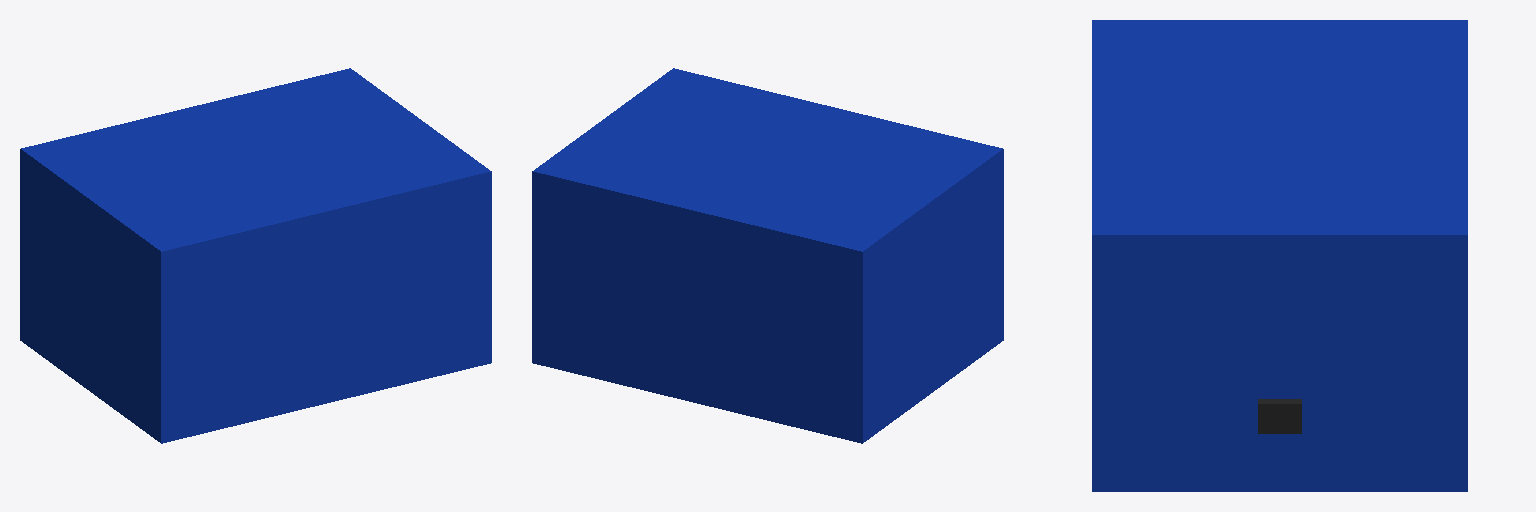
The robot description file, URDF, robot "hexacross8_rov":
<?xml version="1.0"?>
<robot name="hexacross8_rov" xmlns:xacro="http://www.ros.org/wiki/xacro">
  <!--
    HexaCross-8 ROV URDF description
    Coordinate frame: body NED (X-forward, Y-starboard, Z-down)
    All measurements at operating temperature (18 deg C)
    Last updated: 2026-03-22
  -->

  <!-- Material definitions -->
  <material name="blue_anodized">
    <color rgba="0.12 0.29 0.72 1.0"/>
  </material>
  <material name="dark_gray">
    <color rgba="0.2 0.2 0.2 1.0"/>
  </material>
  <material name="acrylic_clear">
    <color rgba="0.9 0.9 0.95 0.4"/>
  </material>

  <!-- Main vehicle body -->
  <link name="base_link">
    <inertial>
      <origin xyz="0.0 0.0 0.0" rpy="0 0 0"/>
      <mass value="12.5"/>
      <inertia ixx="0.21" ixy="0.0" ixz="0.0"
               iyy="0.24" iyz="0.0"
               izz="0.18"/>
    </inertial>
    <visual>
      <origin xyz="0 0 0" rpy="0 0 0"/>
      <geometry>
        <box size="0.457 0.338 0.254"/>
      </geometry>
      <material name="blue_anodized"/>
    </visual>
    <collision>
      <origin xyz="0 0 0" rpy="0 0 0"/>
      <geometry>
        <box size="0.457 0.338 0.254"/>
      </geometry>
    </collision>
  </link>

  <!-- Electronics enclosure -->
  <link name="electronics_tube">
    <inertial>
      <origin xyz="0 0 0" rpy="0 0 0"/>
      <mass value="0.0"/>
      <inertia ixx="0.0" ixy="0.0" ixz="0.0"
               iyy="0.0" iyz="0.0" izz="0.0"/>
    </inertial>
    <visual>
      <origin xyz="0 0 0" rpy="0 1.5708 0"/>
      <geometry>
        <cylinder radius="0.051" length="0.298"/>
      </geometry>
      <material name="acrylic_clear"/>
    </visual>
  </link>
  <joint name="electronics_joint" type="fixed">
    <parent link="base_link"/>
    <child link="electronics_tube"/>
    <origin xyz="0.0 0.0 -0.03" rpy="0 0 0"/>
  </joint>

  <!-- Camera tilt mount -->
  <link name="camera_tilt_link">
    <inertial>
      <origin xyz="0 0 0" rpy="0 0 0"/>
      <mass value="0.0"/>
      <inertia ixx="0.0" ixy="0.0" ixz="0.0"
               iyy="0.0" iyz="0.0" izz="0.0"/>
    </inertial>
    <visual>
      <origin xyz="0 0 0" rpy="0 0 0"/>
      <geometry>
        <box size="0.04 0.04 0.03"/>
      </geometry>
      <material name="dark_gray"/>
    </visual>
  </link>
  <joint name="camera_tilt_joint" type="revolute">
    <parent link="base_link"/>
    <child link="camera_tilt_link"/>
    <origin xyz="0.22 0.0 -0.05" rpy="0 0 0"/>
    <axis xyz="0 1 0"/>
    <limit lower="-1.57" upper="1.57" effort="2.0" velocity="1.0"/>
  </joint>

  <!-- Buoyancy properties (not part of URDF standard, custom extension) -->
  <!-- <buoyancy>
    <volume value="0.01276"/>
    <center_of_buoyancy xyz="0.0 0.0 -0.01"/>
    <fluid_density value="1025.0"/>
  </buoyancy> -->

  <!-- Added mass coefficients (Fossen model)
       X_udot: -1.85  Y_vdot: -2.41  Z_wdot: -8.36
       K_pdot: -0.008 M_qdot: -0.009 N_rdot: -0.012
  -->

</robot>

--- What the picture shows (computed from the rendered views, not written in the file) ---
3 views of the same robot in one strip: view 1: azimuth 30°, elevation 25°; view 2: azimuth 150°, elevation 25°; view 3: azimuth 270°, elevation 25° (orthographic).
Model hexacross8_rov with 3 links and 2 joints (1 revolute, 1 fixed), rooted at base_link, posed all joints at 0.
Links seen in each view (by area): view 1: base_link; view 2: base_link; view 3: base_link, camera_tilt_link.
Link boxes in pixels (x1,y1,x2,y2): base_link: [20, 68, 491, 443]; base_link: [532, 68, 1003, 443]; base_link: [1092, 20, 1467, 491]; camera_tilt_link: [1258, 399, 1301, 433].
Size in the robot's own frame: 0.4685 by 0.338 by 0.254 metres.
Geometry: primitives only (box / cylinder / sphere), no mesh files.
